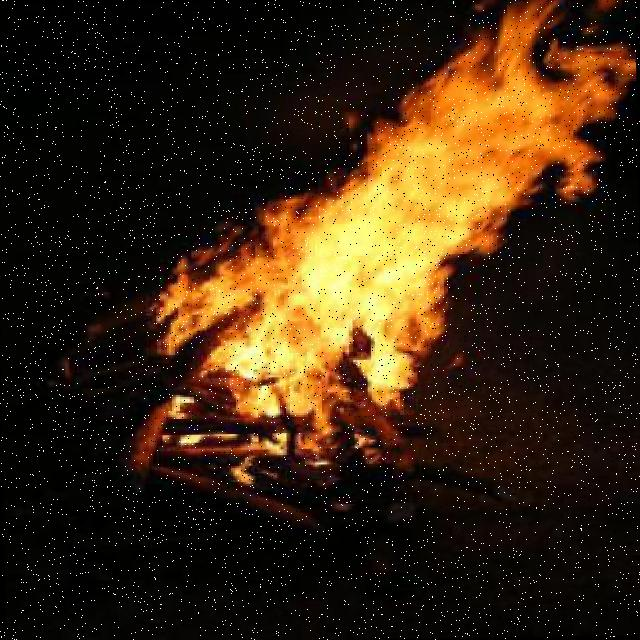fire: (103, 0, 640, 498)
